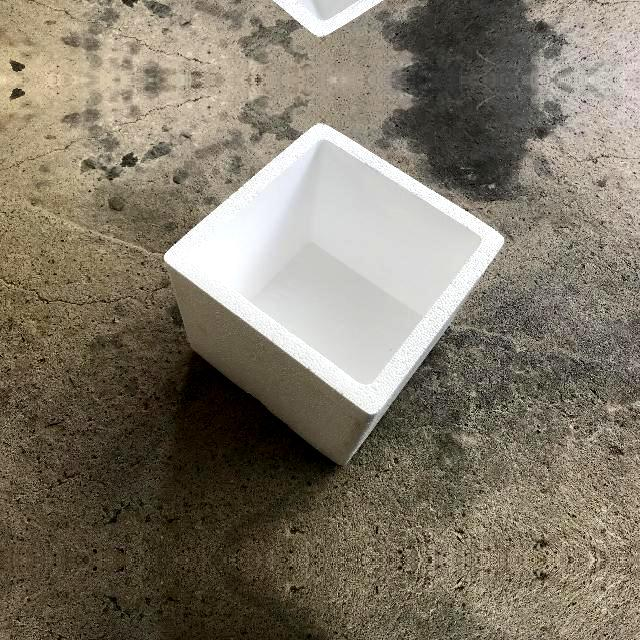Styrofoam: (162, 123, 506, 465), (164, 124, 504, 464)
